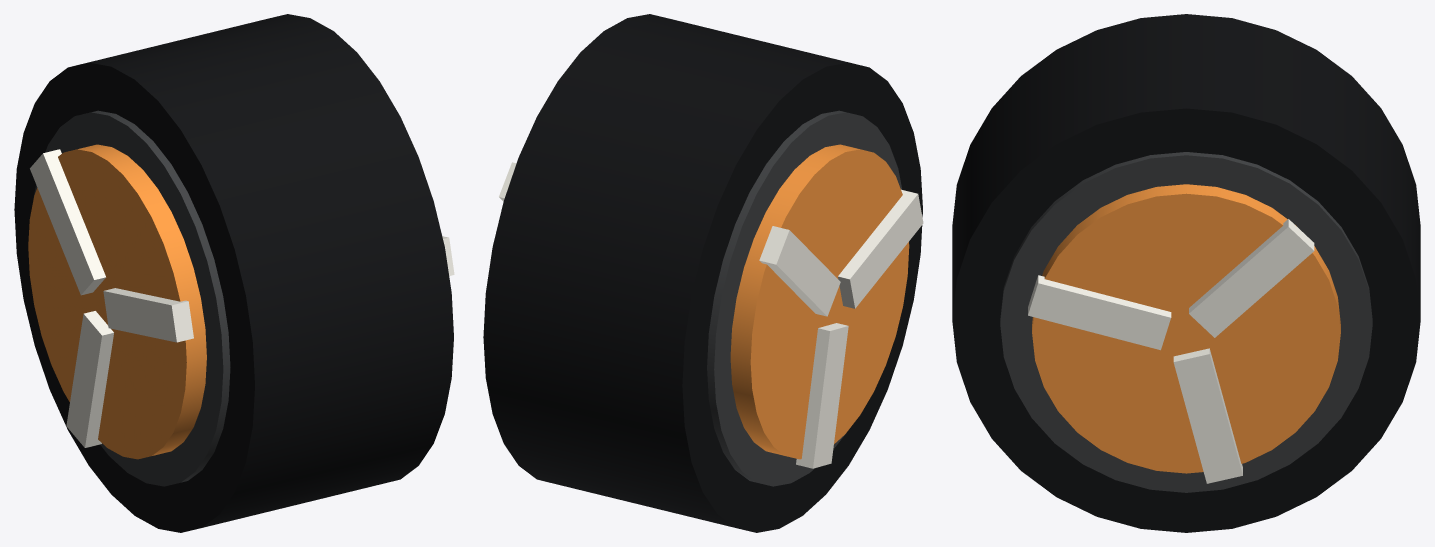
Rendered from kart_wheel.glb.
The picture shows the model from 3 angles, left to right: view 1: azimuth 30°, elevation 25°; view 2: azimuth 150°, elevation 25°; view 3: azimuth 270°, elevation 25°; orthographic projection. The views are drawn at different scales.
Size of the model in its own units: 0.586 by 0.88 by 0.88.
